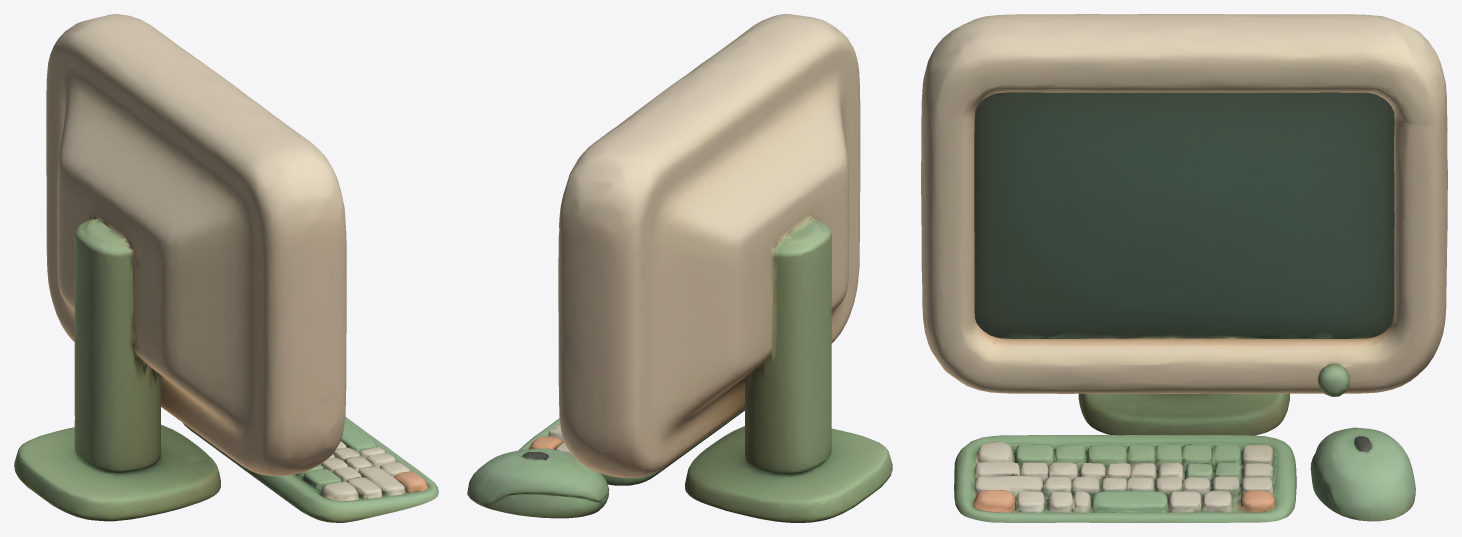
The model's file is discovery-computer-v2.glb.
The picture shows the model from 3 angles, left to right: view 1: azimuth 30°, elevation 25°; view 2: azimuth 150°, elevation 25°; view 3: azimuth 270°, elevation 25°; orthographic projection. The views are drawn at different scales.
Parts seen in each view (by area): view 1: Monitor and stand, Keyboard; view 2: Monitor and stand, Mouse, Keyboard; view 3: Monitor and stand, Keyboard, Mouse.
Boxes of the visible parts, x1,y1,x2,y2 form: Monitor and stand: (14, 14, 346, 521); Keyboard: (183, 417, 438, 522); Monitor and stand: (558, 14, 892, 522); Mouse: (467, 448, 609, 518); Keyboard: (518, 408, 744, 485); Monitor and stand: (921, 14, 1447, 435); Keyboard: (954, 435, 1296, 522); Mouse: (1310, 427, 1415, 521).
Size of the model in its own units: 0.8373 by 0.9629 by 1.1.
Materials: 2 (2 with a texture image).
